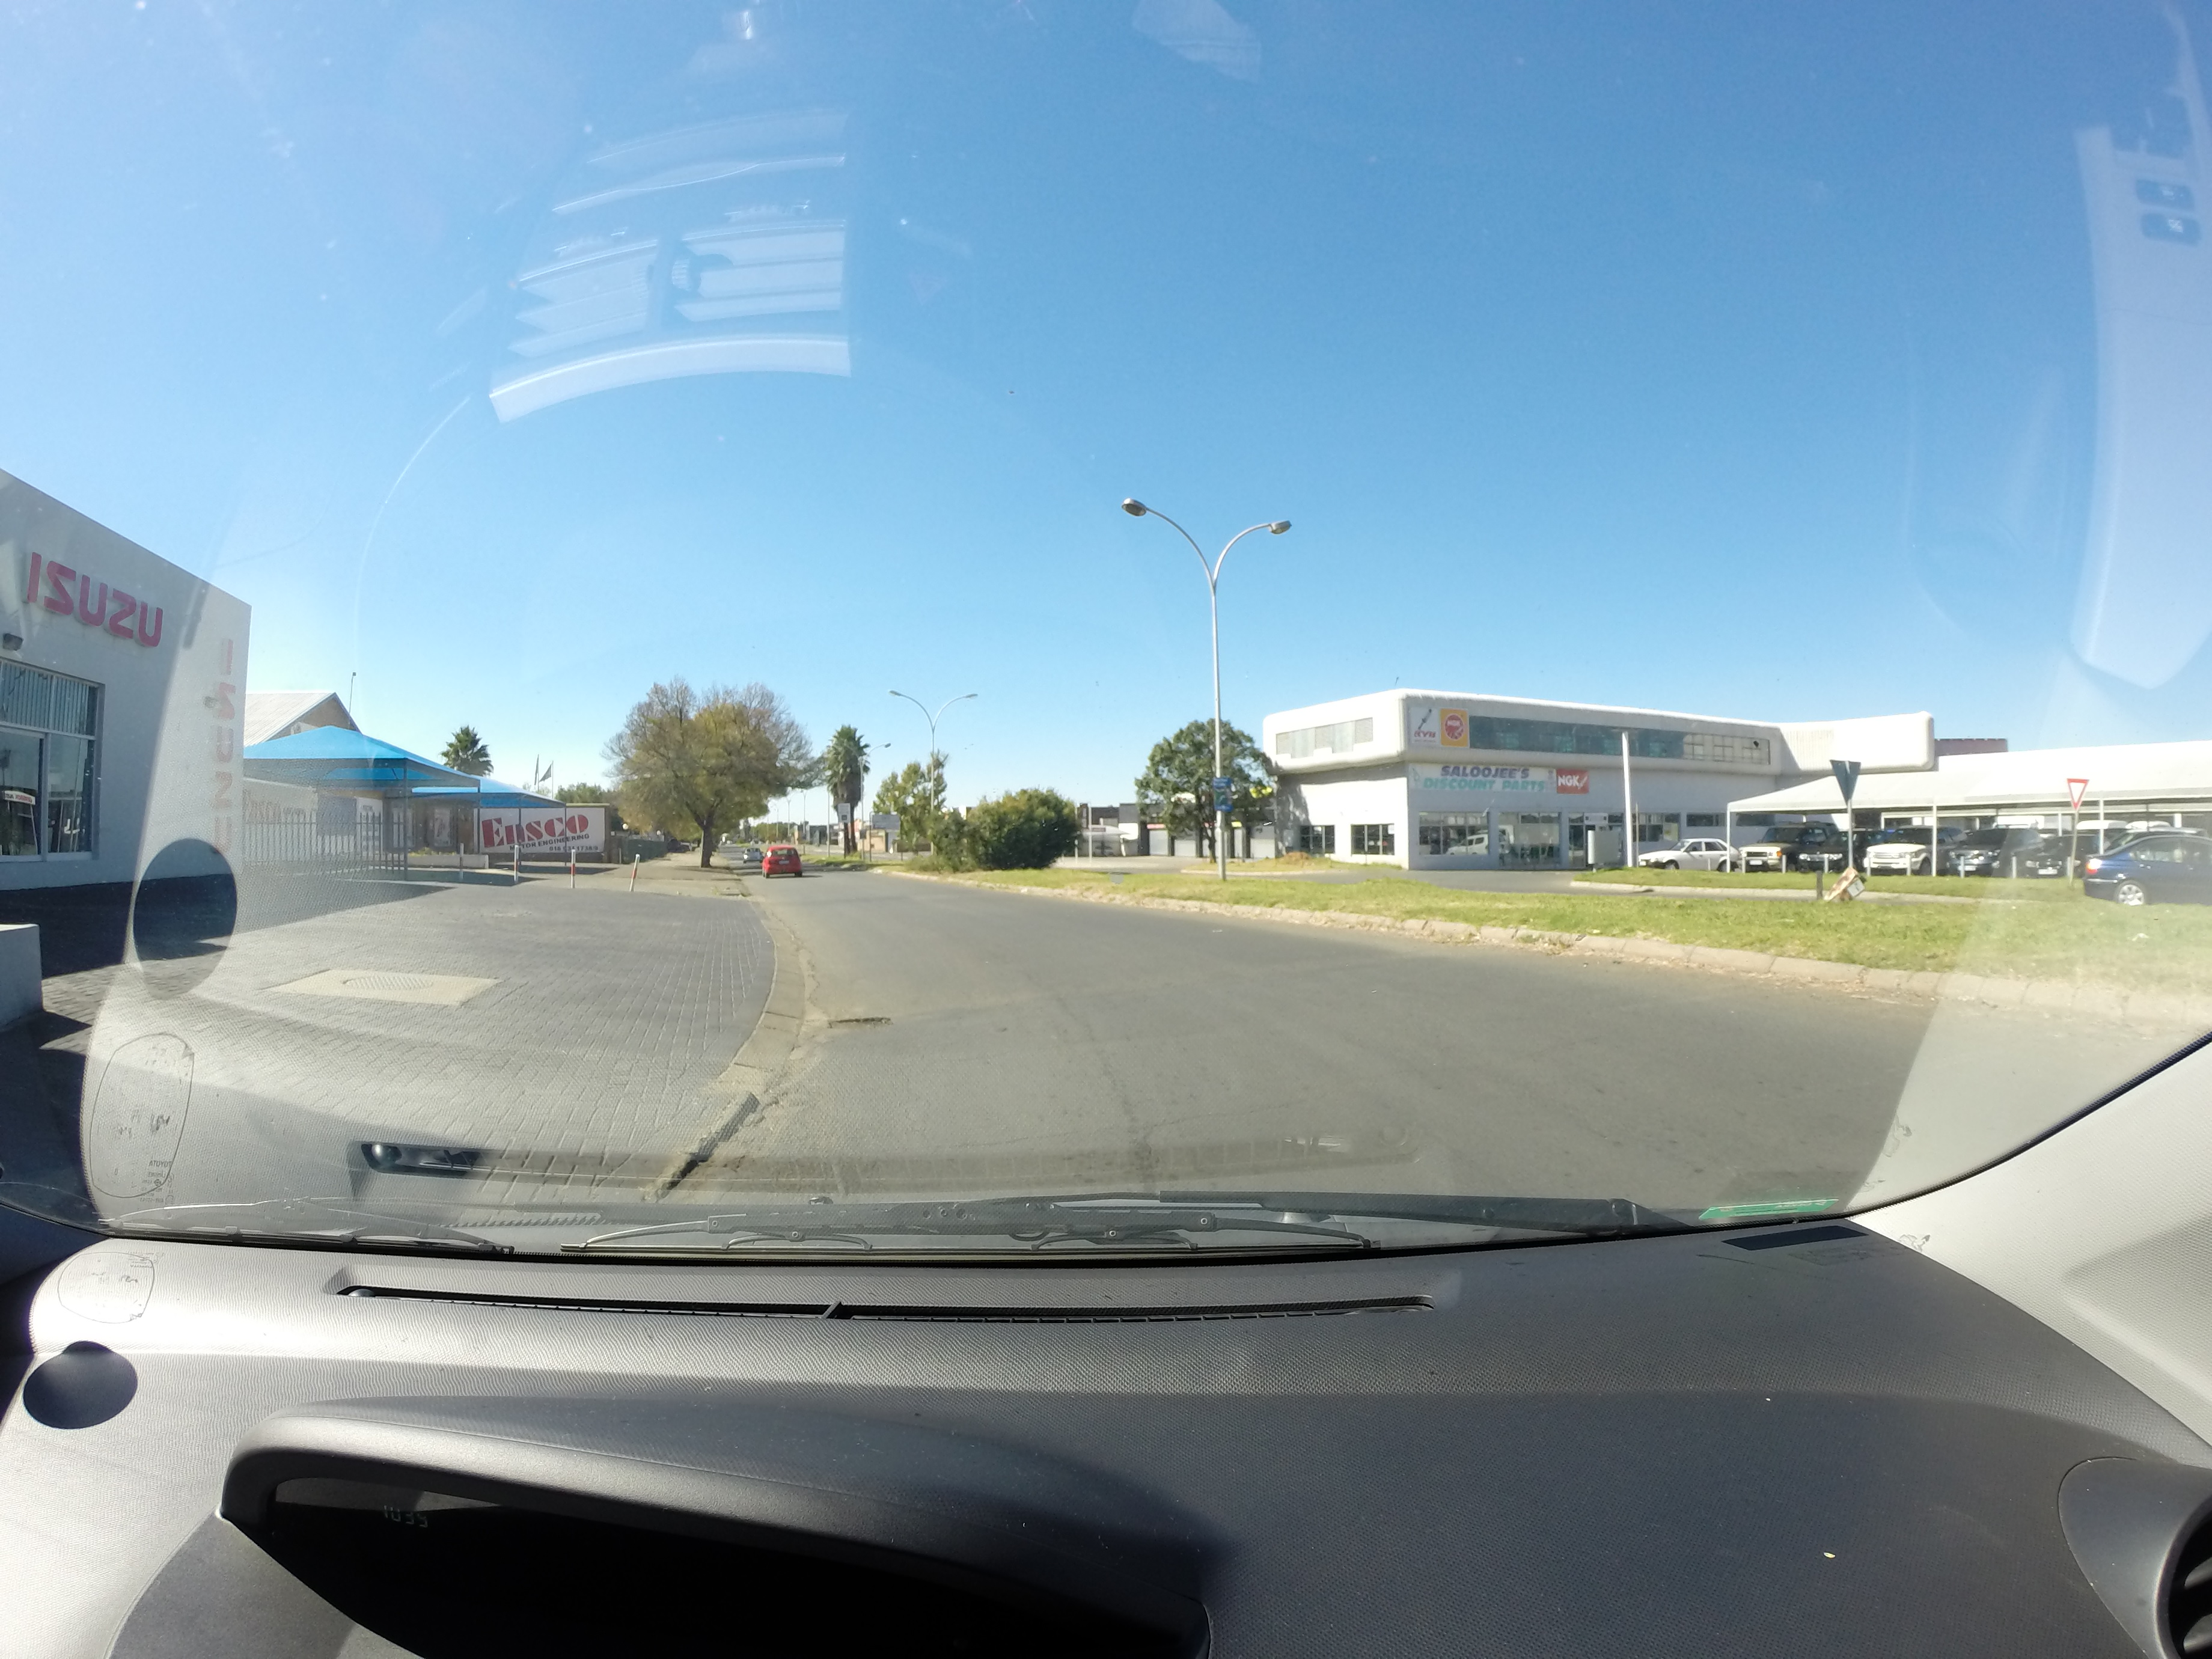pothole: (585, 1009, 977, 1208)
